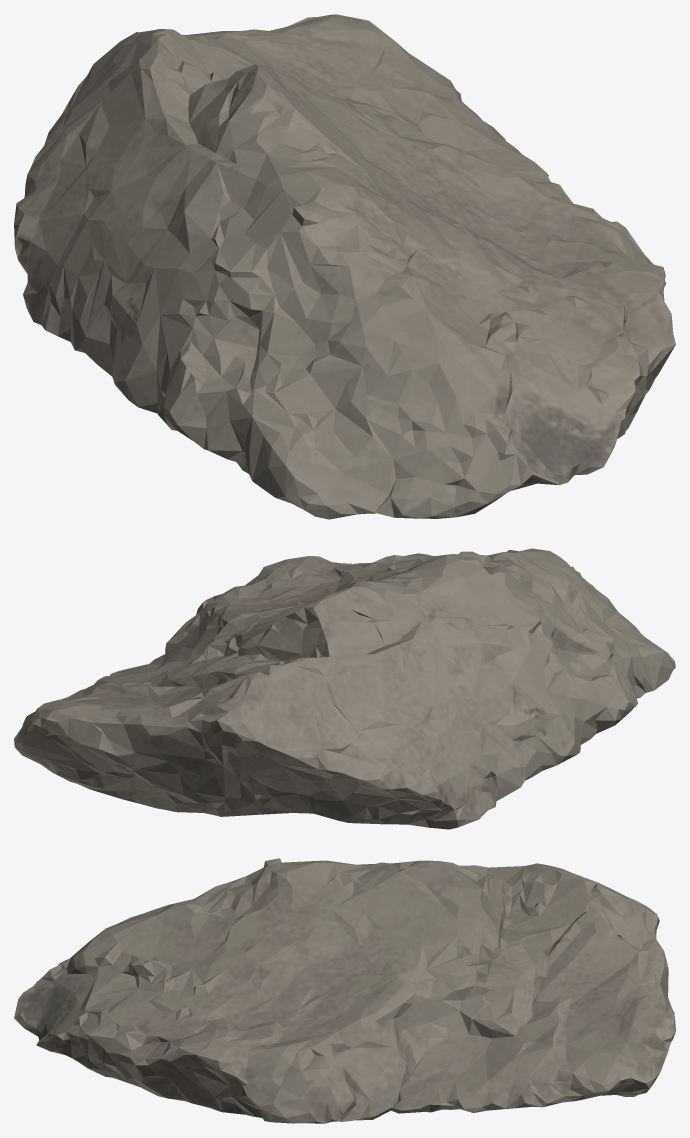
File: moon_rock_04.glb
3 renders of one model, top to bottom at view 1: azimuth 30°, elevation 25°; view 2: azimuth 150°, elevation 25°; view 3: azimuth 270°, elevation 25°, orthographic. The views are drawn at different scales.
Parts seen in each view (by area): view 1: moon_rock_04_LOD0; view 2: moon_rock_04_LOD0; view 3: moon_rock_04_LOD0.
Part boxes in pixels (x1=…): moon_rock_04_LOD0: x1=14, y1=14, x2=675, y2=519; moon_rock_04_LOD0: x1=14, y1=548, x2=675, y2=829; moon_rock_04_LOD0: x1=14, y1=858, x2=675, y2=1123.
Size of the model in its own units: 0.1198 by 0.0538 by 0.1738.
Materials: 1 (1 with a texture image).
